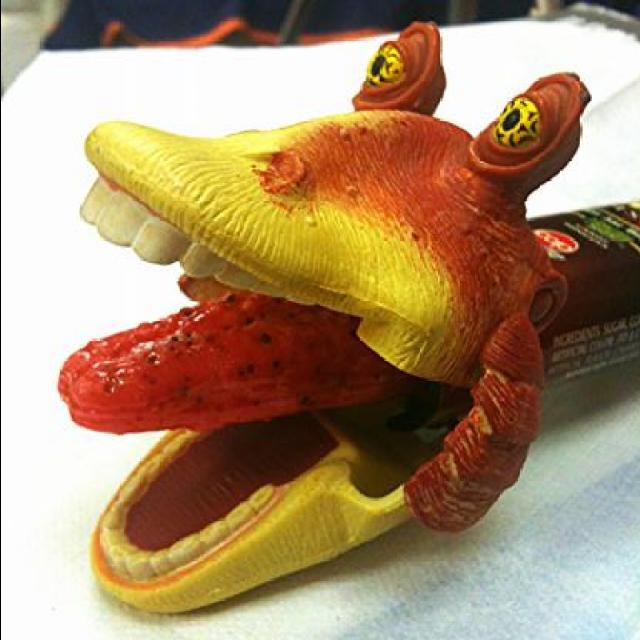Hot dog: (1, 54, 627, 597)
